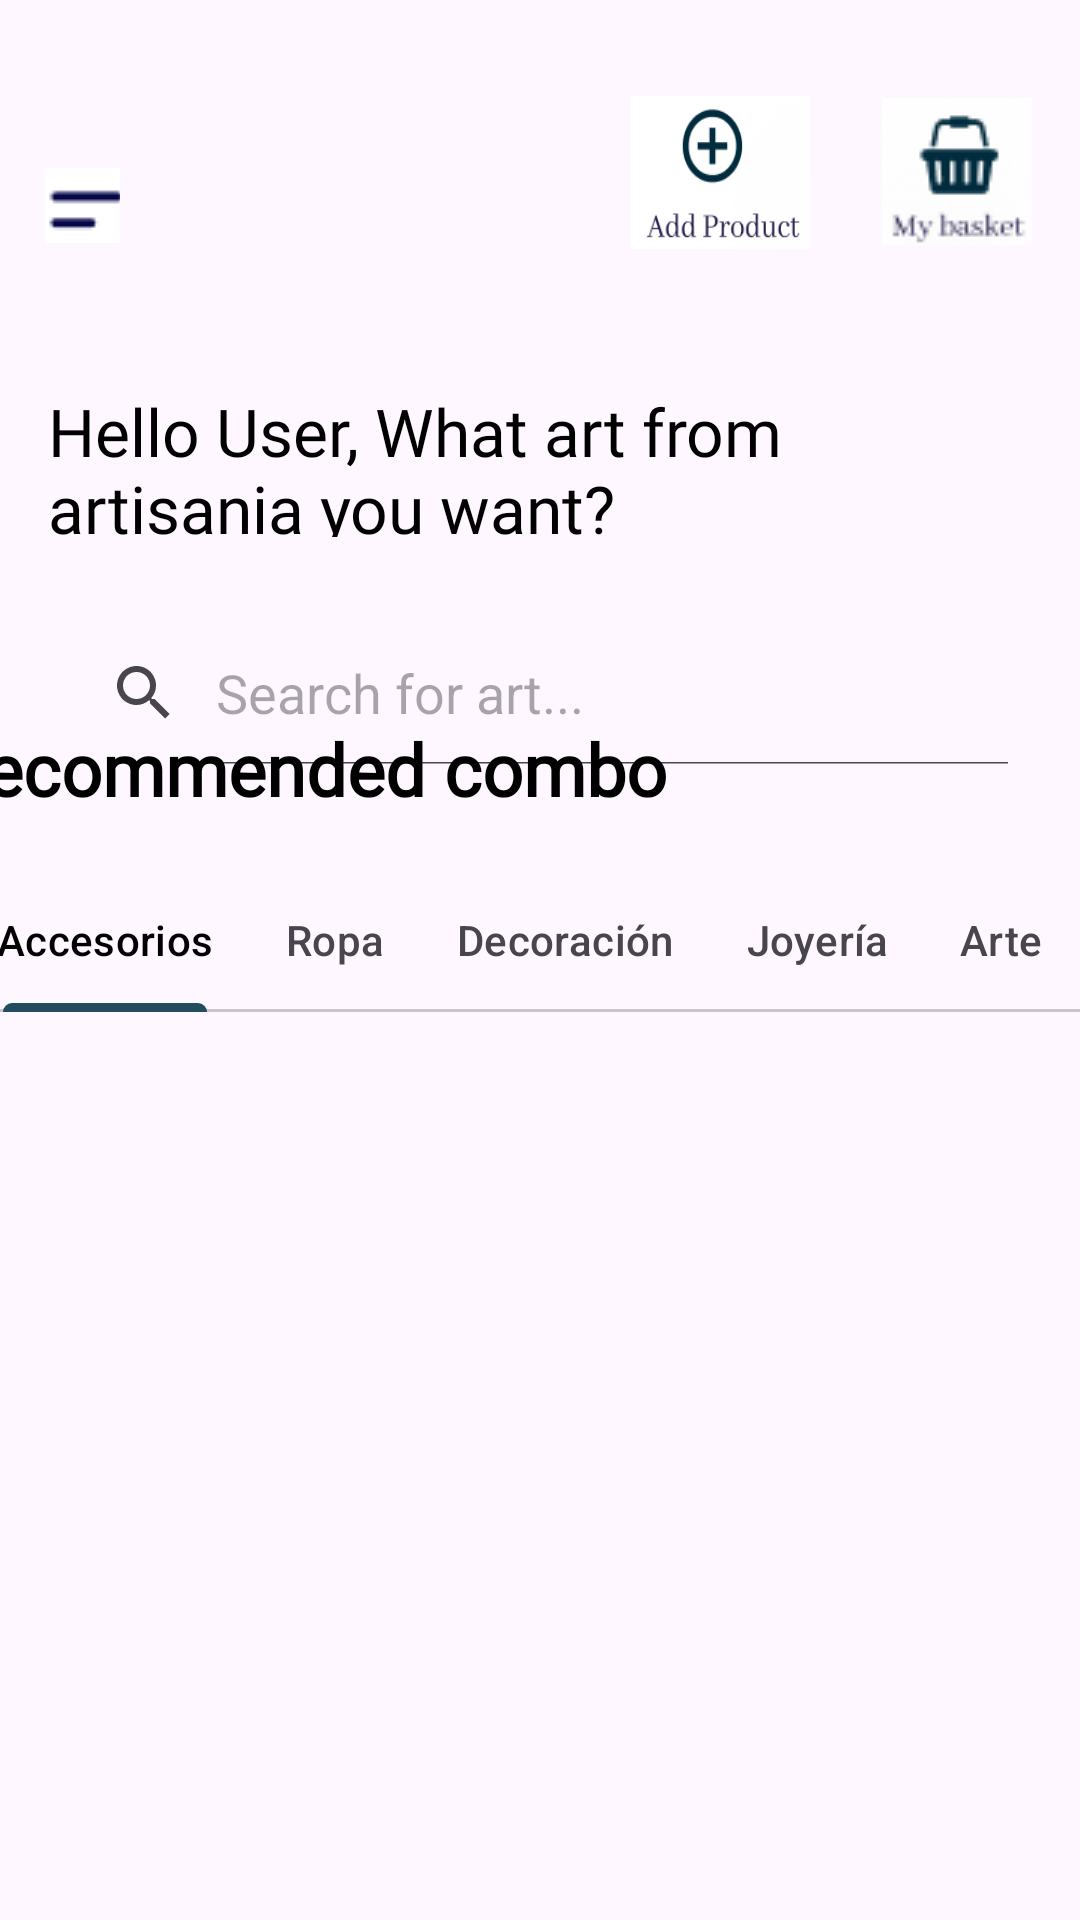

Screen size 1080×1920. Icon name, then its box in pixels as (x1, y1, x2, y2):
side menu: (49, 190, 120, 229)
